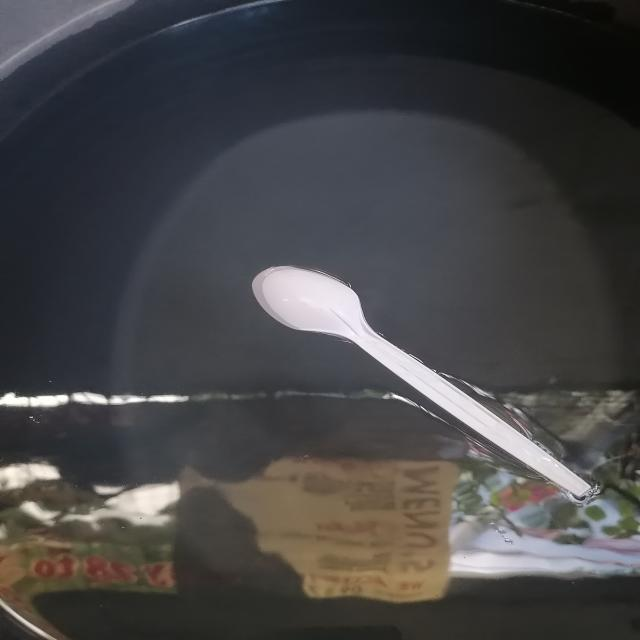Plastic Spoon: (237, 248, 610, 520)
